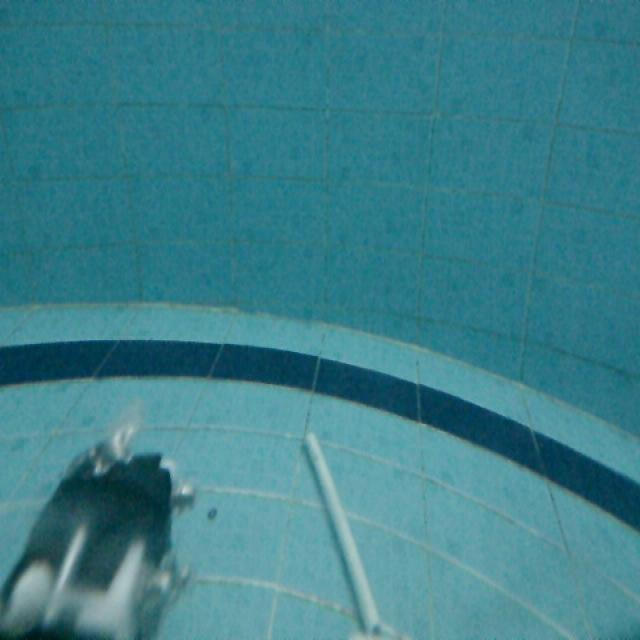Cube: (300, 425, 391, 640)
